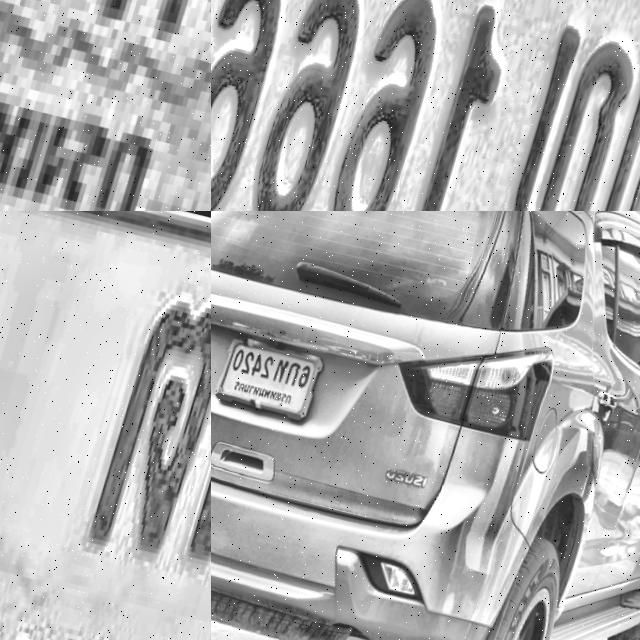license-plate: (211, 0, 640, 211), (0, 211, 211, 640), (0, 0, 211, 211), (211, 328, 332, 426)
